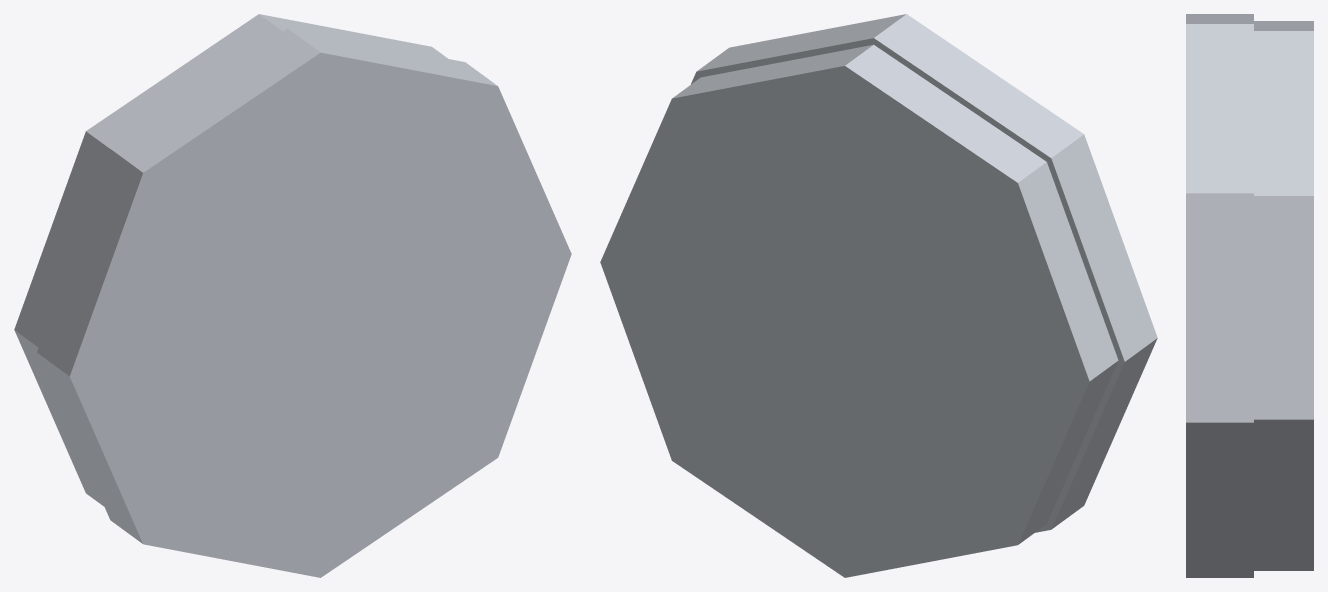
File: dish_petridish.obj
The picture shows the model from 3 angles, left to right: view 1: azimuth 30°, elevation 25°; view 2: azimuth 150°, elevation 25°; view 3: azimuth 270°, elevation 25°; orthographic projection. The views are drawn at different scales.
Parts seen in each view (by area): view 1: Cylinder.615, Cylinder.614; view 2: Cylinder.614, Cylinder.615; view 3: Cylinder.615, Cylinder.614.
Boxes of the visible parts, x1,y1,x2,y2 form: Cylinder.615: (37,28,571,577); Cylinder.614: (14,14,447,506); Cylinder.614: (600,44,1118,577); Cylinder.615: (691,14,1157,532); Cylinder.615: (1186,14,1253,577); Cylinder.614: (1254,21,1313,570).
Bounding box in the file's own units: 0.1215 × 0.1215 × 0.0259.
1 material, 1 textured.
